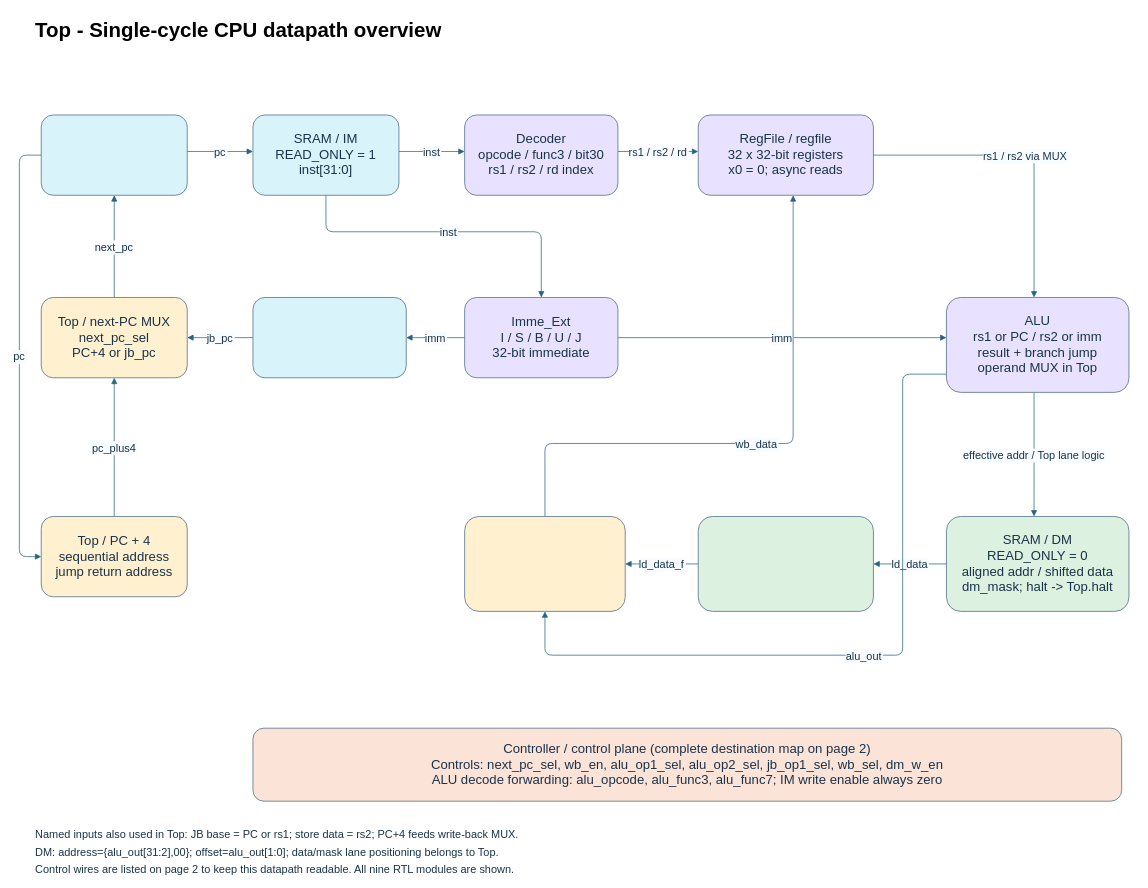
The diagram is 1148 pixels wide and 888 high, and some of its shapes have lost their labels. Here are the shapes that lost their labels. From the top down, the centre of each, then its label:
At point (114, 154): "Reg_PC / PC 32-bit current_pc posedge / rst=0 clear".
At point (329, 337): "JB_Unit (PC or rs1) + imm JALR clears bit0 in Top".
At point (544, 563): "Top / write-back MUX load: ld_data_f JAL/JALR: PC+4 others: alu_out".
At point (785, 563): "LD_Filter load data shifted in Top LB/LH: sign extend LBU/LHU: zero extend".
